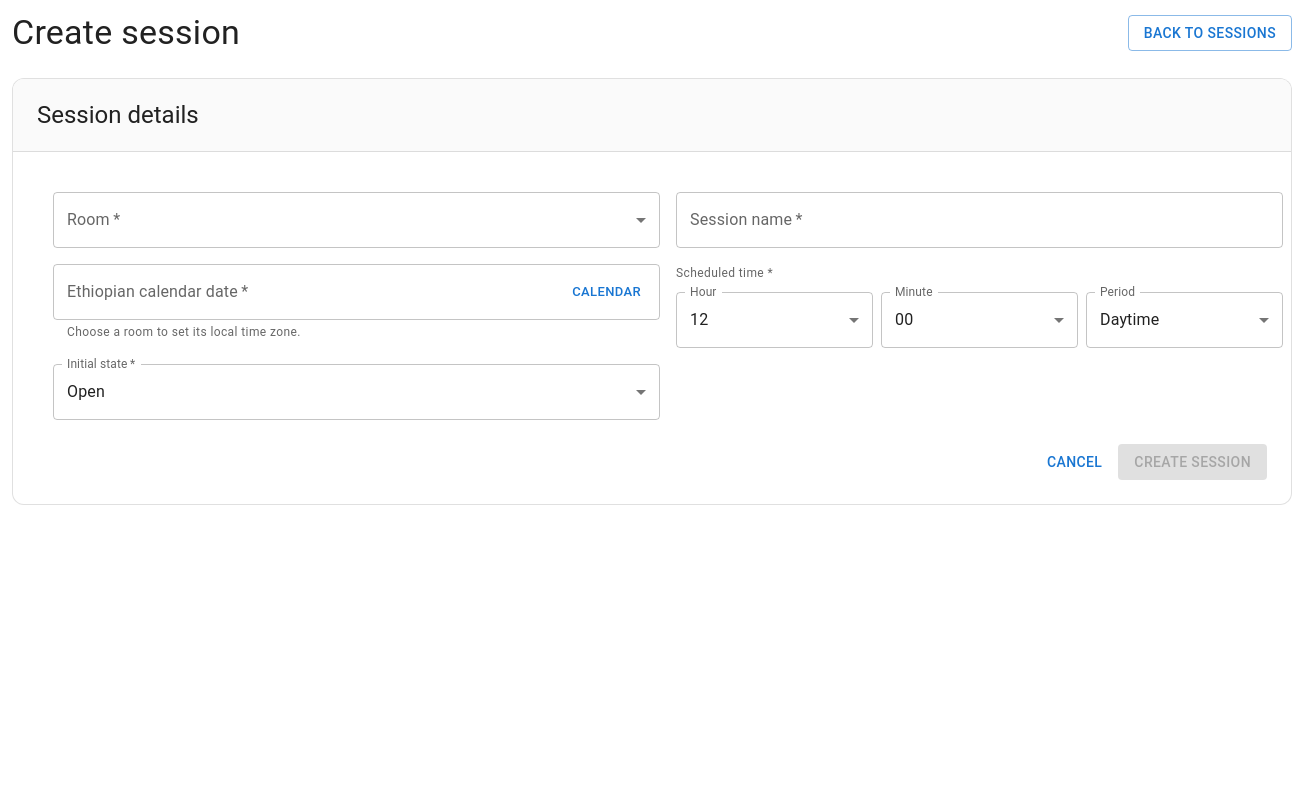
SessionCreatePage › uses an Ethiopian calendar picker for the scheduled date
Step 1. Click the dropdown named "Room" → [356, 220], box top-left (53, 192), bottom-right (660, 248)
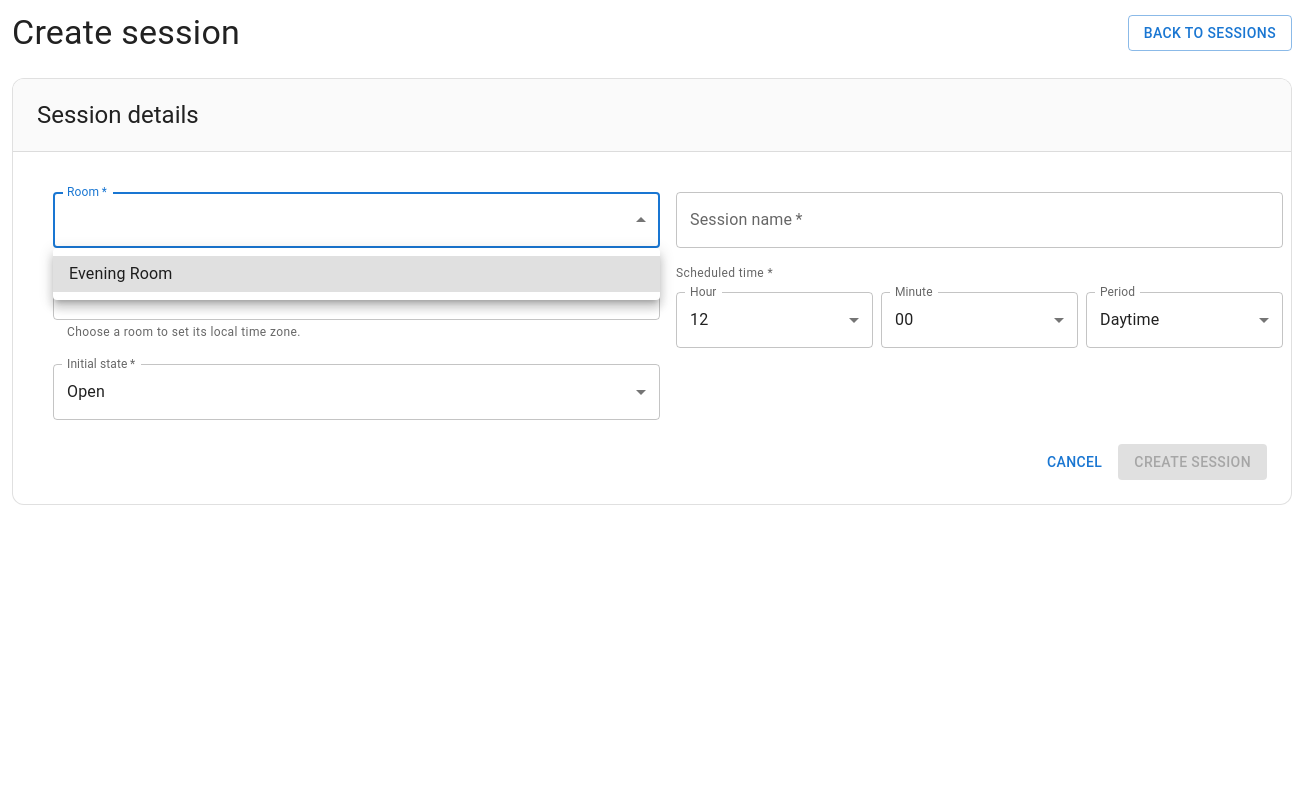
Step 2. Click the option "Evening Room" → [121, 274], box top-left (53, 256), bottom-right (660, 292)
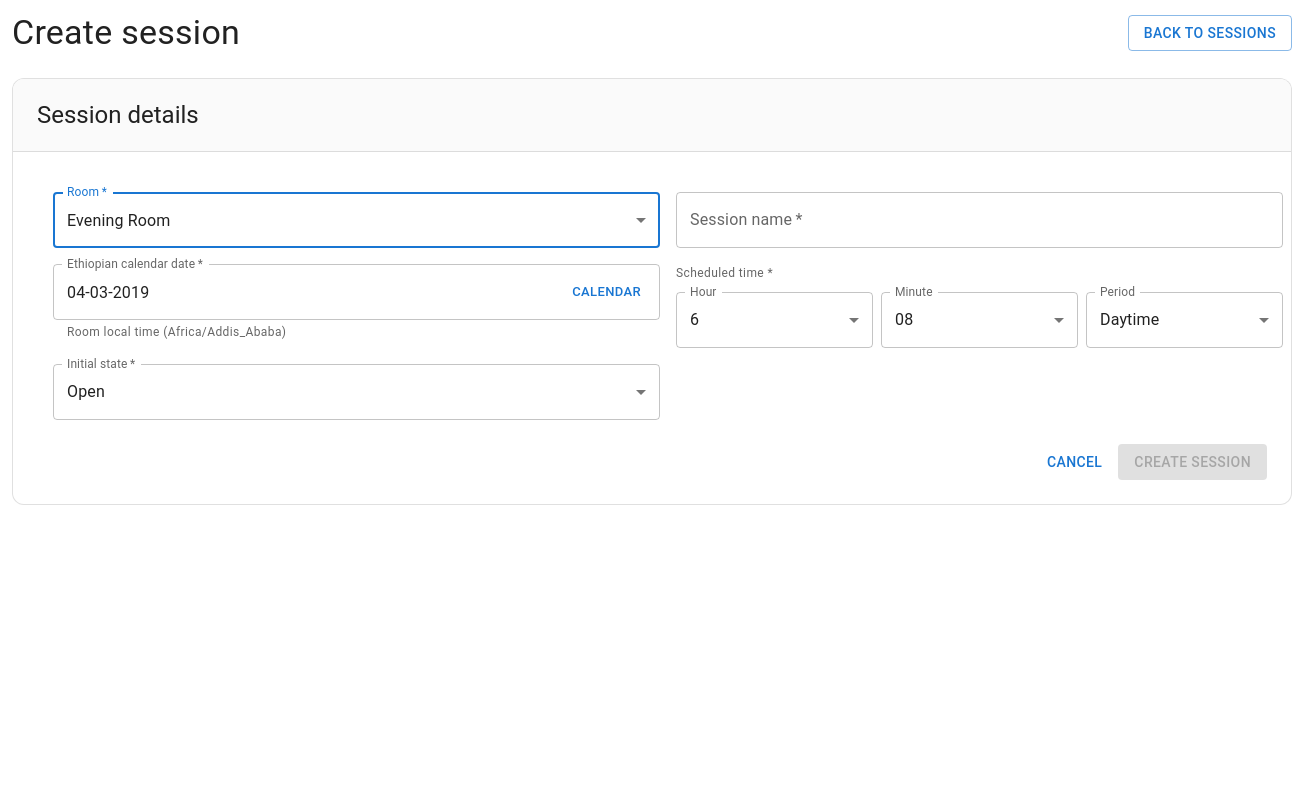
Step 3. Click the button with aria-label "Open Ethiopian calendar date calendar" → [607, 292], box top-left (567, 277), bottom-right (646, 307)
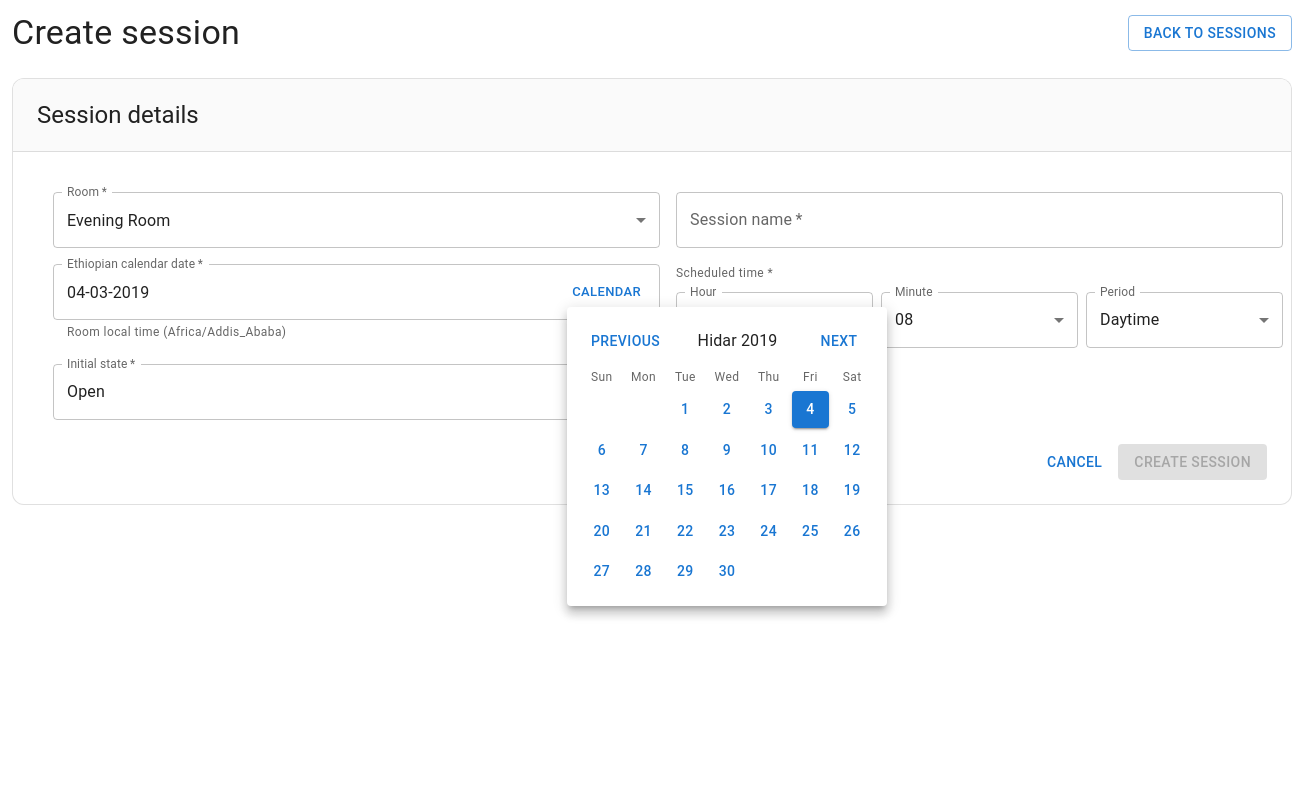
Expected: the button with aria-label "Previous Ethiopian month" is shown, top-left (583, 323), bottom-right (668, 360)
Expected: the button named "Select " is shown, top-left (666, 391), bottom-right (704, 428)
